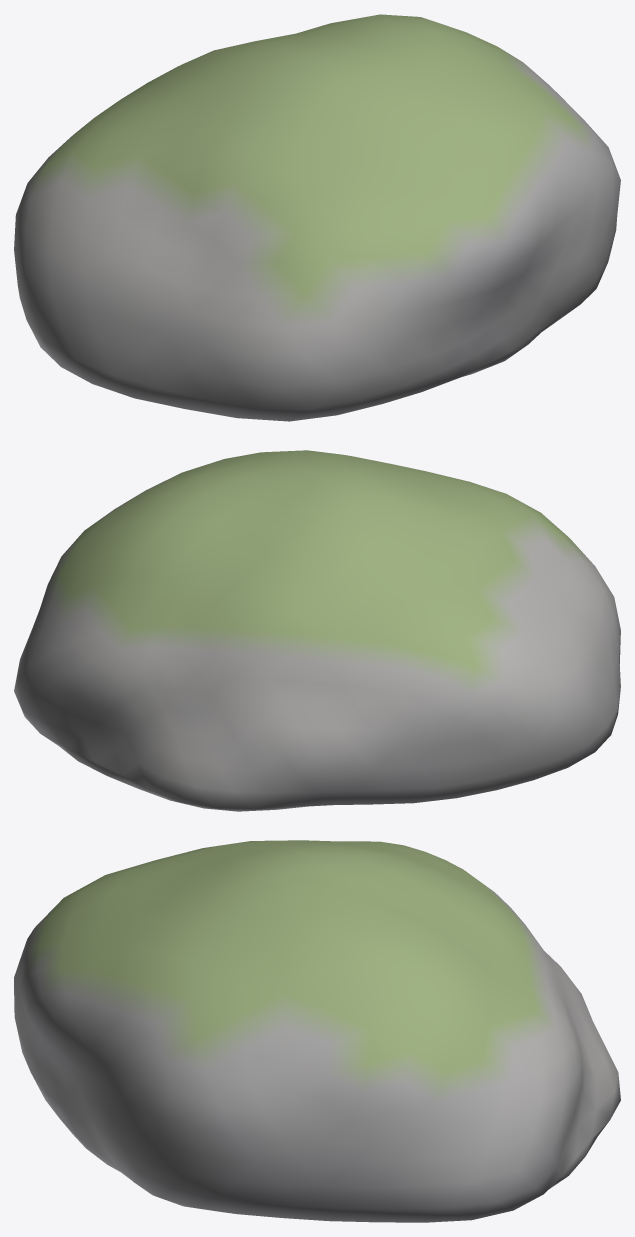
Rendered from Rock_0.fbx.
3 renders of one model, top to bottom at view 1: azimuth 30°, elevation 25°; view 2: azimuth 150°, elevation 25°; view 3: azimuth 270°, elevation 25°, orthographic. The views are drawn at different scales.
Parts seen in each view (by area): view 1: Rock_0; view 2: Rock_0; view 3: Rock_0.
Boxes of the visible parts, left/top/right/bottom form: Rock_0: left=14, top=14, right=620, bottom=421; Rock_0: left=14, top=450, right=620, bottom=811; Rock_0: left=14, top=840, right=620, bottom=1222.
Size of the model in its own units: 2.02 by 0.9398 by 1.92.
